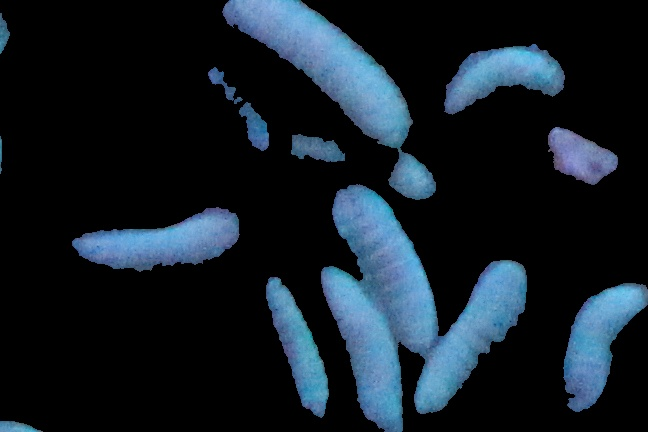larvae: (206, 1, 417, 147), (417, 262, 526, 410), (340, 198, 432, 350), (320, 271, 408, 427), (70, 200, 244, 274), (560, 282, 648, 416), (253, 272, 326, 427), (447, 43, 561, 123)
